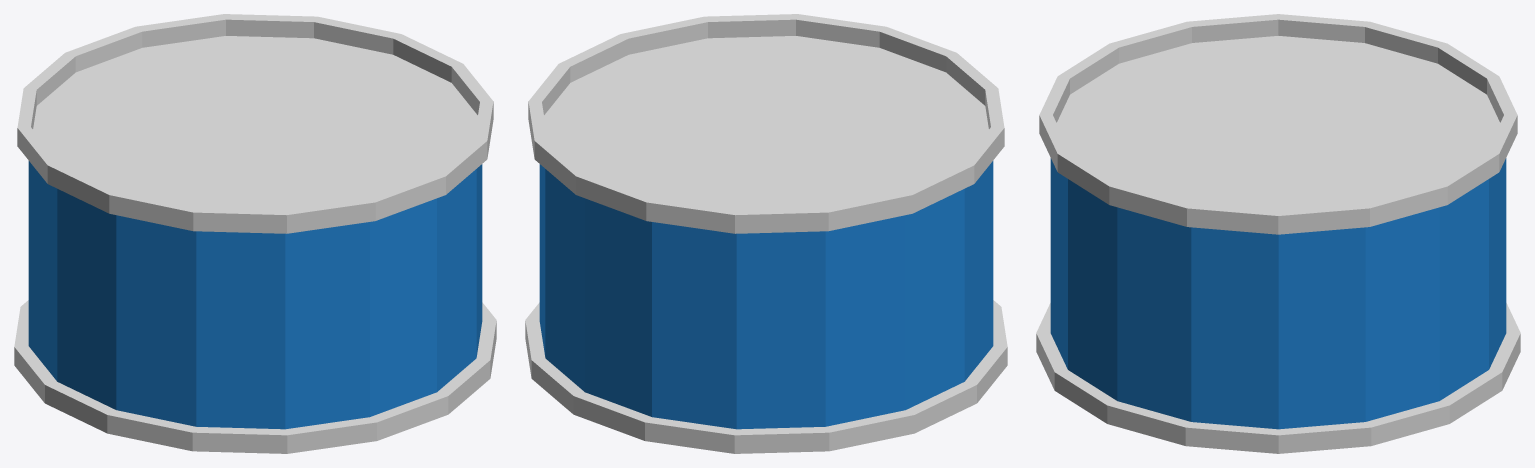
File: CannedFood_01.fbx
3 views of the same model, side by side, from view 1: azimuth 30°, elevation 25°; view 2: azimuth 150°, elevation 25°; view 3: azimuth 270°, elevation 25° (orthographic).
Parts seen in each view (by area): view 1: CannedFood_01; view 2: CannedFood_01; view 3: CannedFood_01.
Part boxes in pixels (left/top/right/bottom): CannedFood_01: left=14, top=14, right=496, bottom=453; CannedFood_01: left=525, top=14, right=1007, bottom=453; CannedFood_01: left=1036, top=14, right=1520, bottom=453.
Size of the model in its own units: 15.03 by 8.1 by 15.03.
